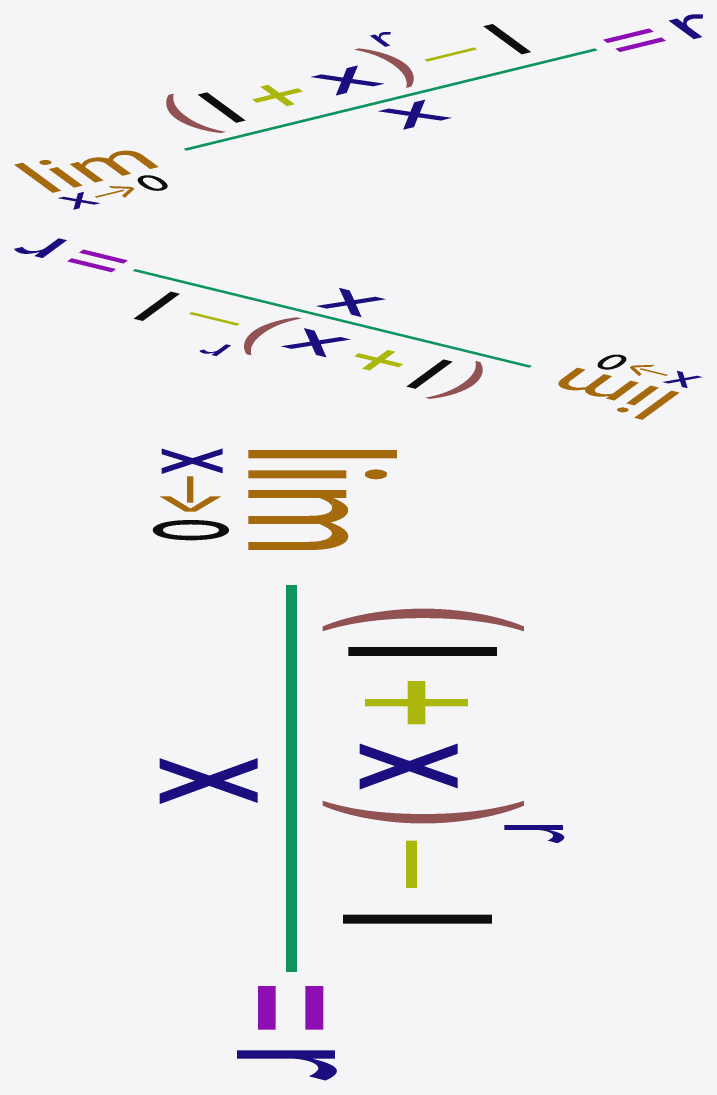
3 renders of one model, top to bottom at view 1: azimuth 30°, elevation 25°; view 2: azimuth 150°, elevation 25°; view 3: azimuth 270°, elevation 25°, orthographic. The views are drawn at different scales.
Parts seen in each view (by area): view 1: LR 5; view 2: LR 5; view 3: LR 5.
Part boxes in pixels (x1,y1,x2,y2): LR 5: [14, 14, 702, 209]; LR 5: [14, 238, 702, 419]; LR 5: [152, 448, 564, 1080].
Bounding box in the file's own units: 6.86 × 0.00149 × 1.89.
